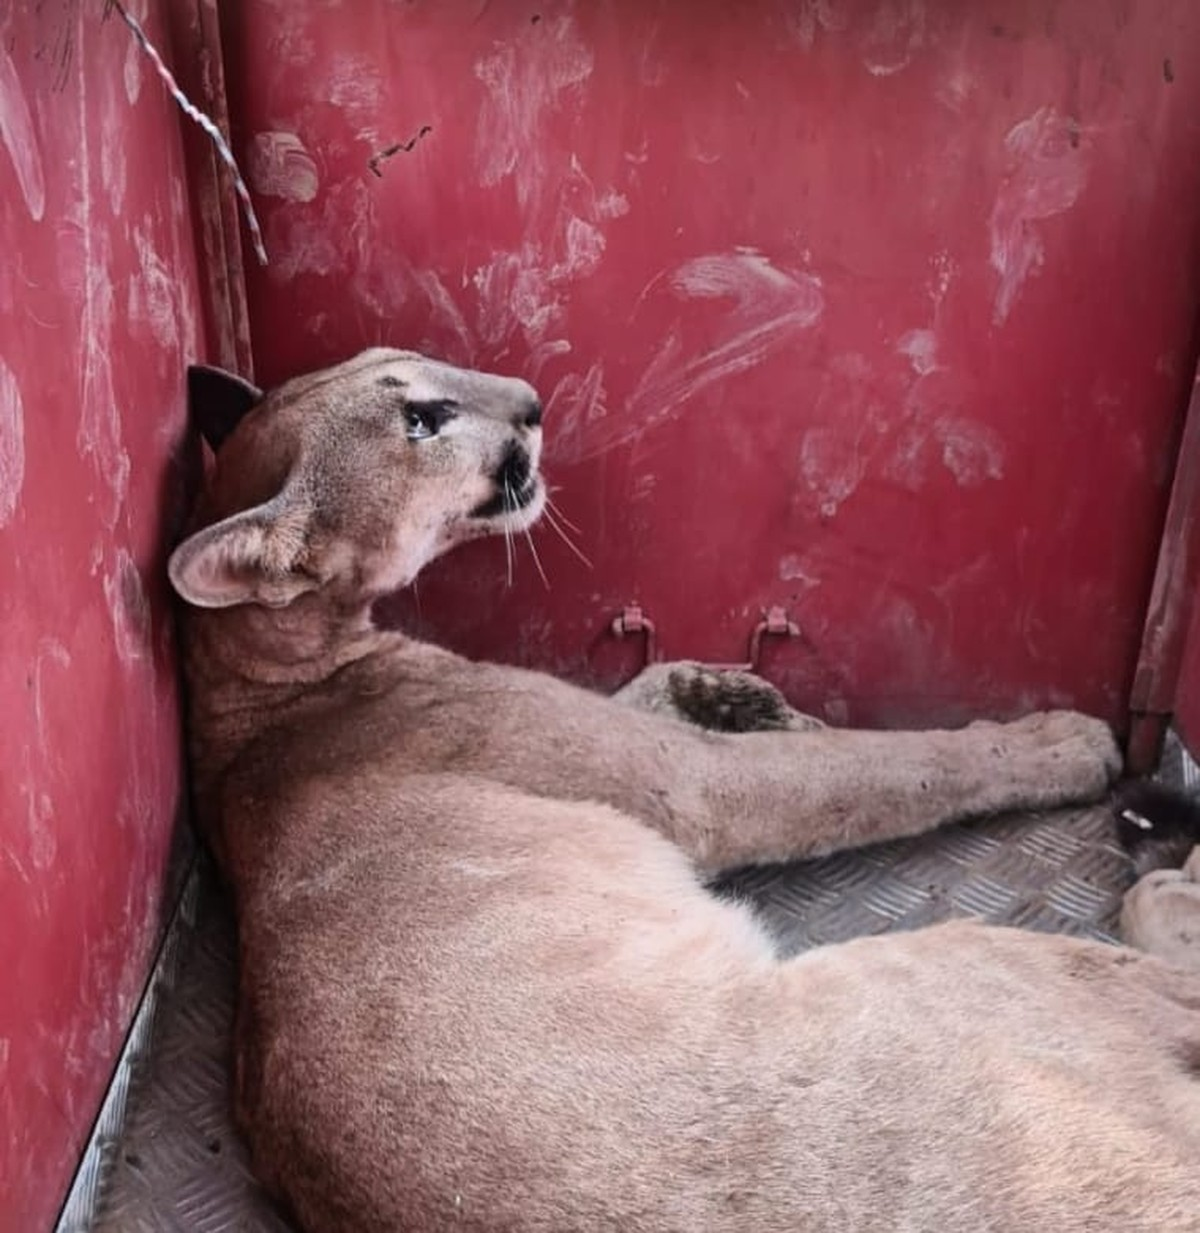OncaParda: (170, 340, 1178, 1216)
